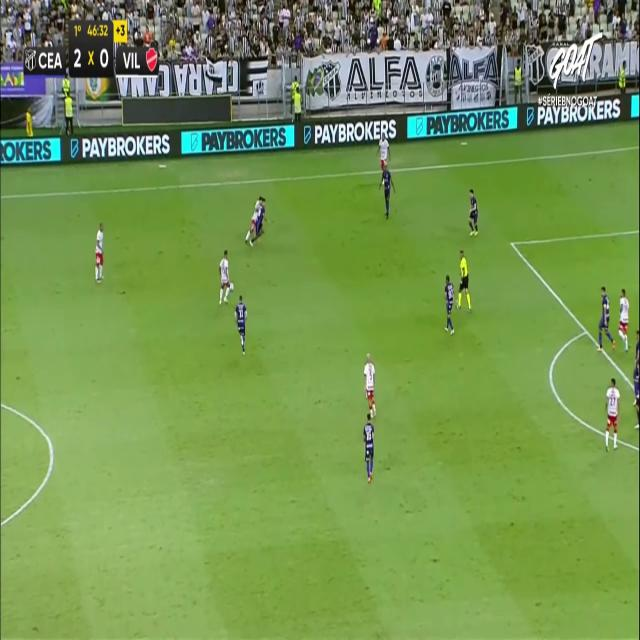player: (596, 286, 616, 351), (604, 377, 620, 451), (248, 193, 268, 248), (379, 161, 396, 219), (218, 249, 234, 305), (363, 352, 376, 418), (363, 413, 375, 483), (234, 294, 247, 355), (618, 287, 630, 351), (444, 274, 455, 335), (94, 221, 104, 283), (377, 132, 391, 174), (468, 188, 478, 236)
referee: (456, 249, 472, 311)
